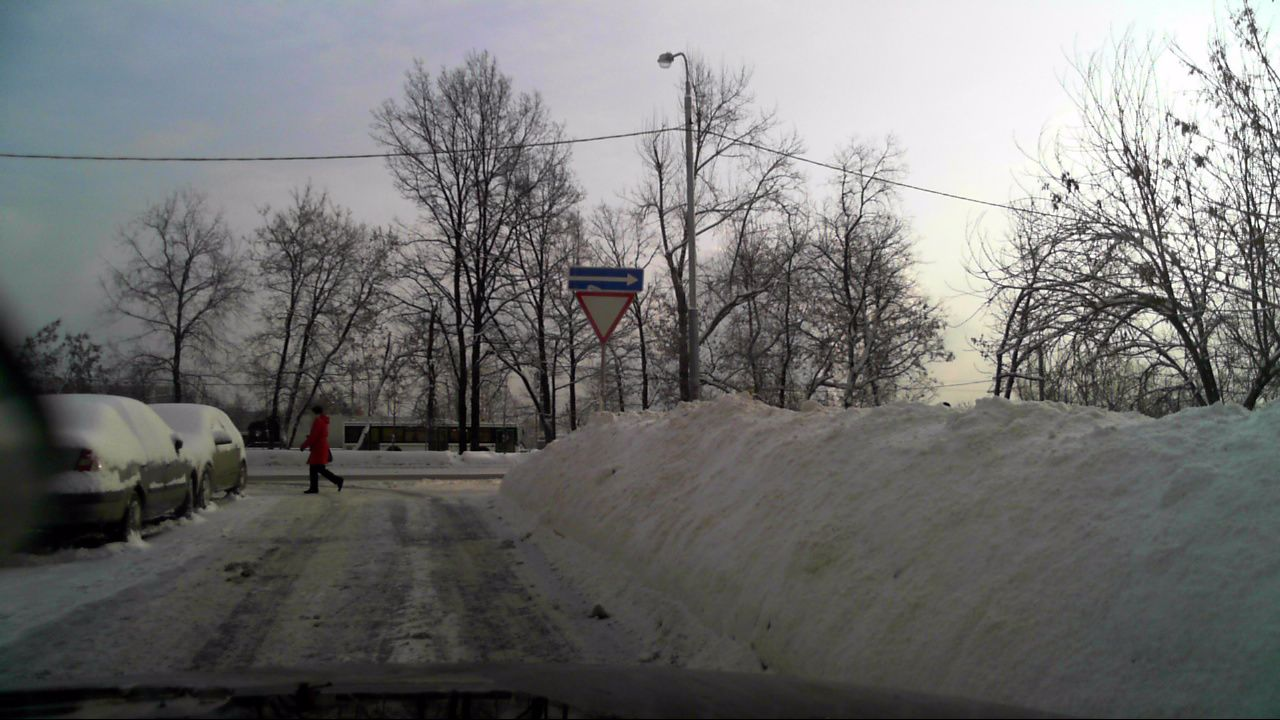One-Way Traffic: (568, 267, 643, 291)
